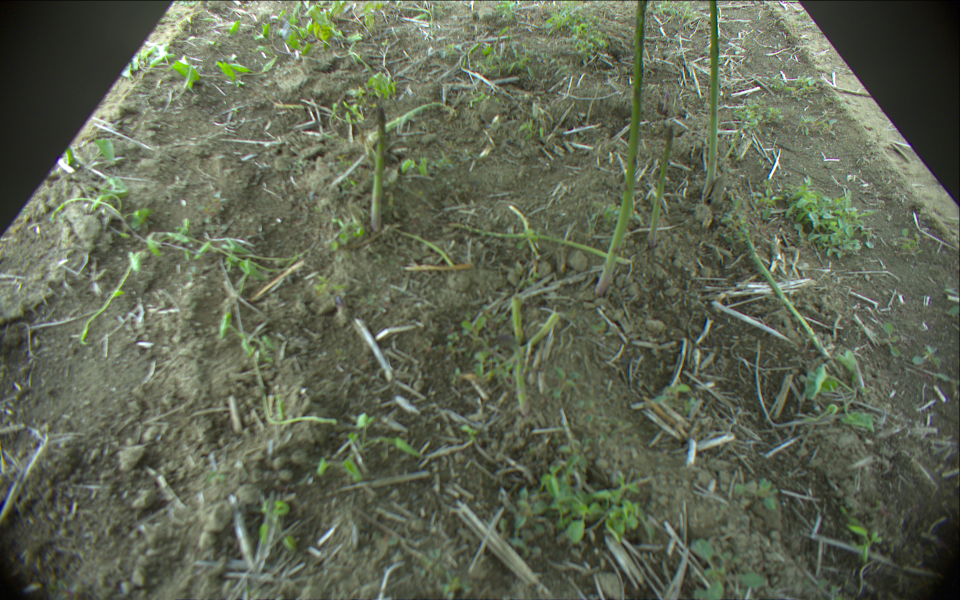aspa: (594, 1, 647, 297), (745, 222, 830, 361), (451, 221, 632, 266), (481, 311, 559, 380), (703, 1, 720, 202), (368, 101, 455, 139), (648, 124, 675, 246), (509, 297, 529, 413), (373, 103, 387, 233)
